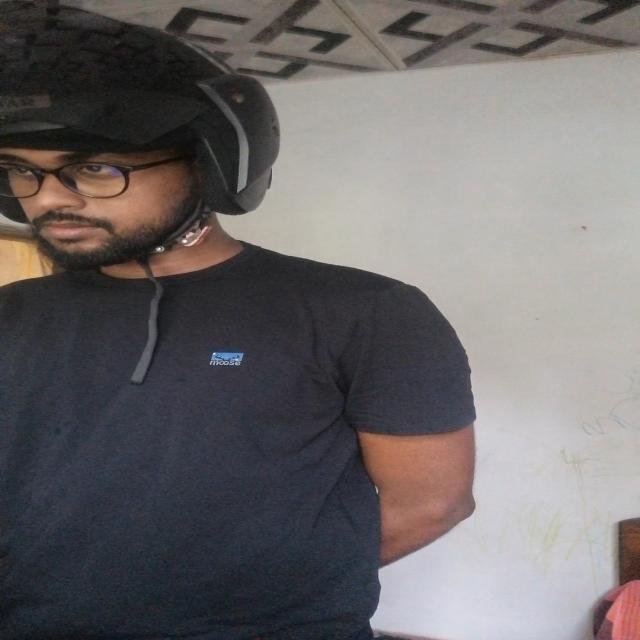Helmet_Wearer: (0, 4, 280, 302)
Person: (1, 5, 466, 635)
